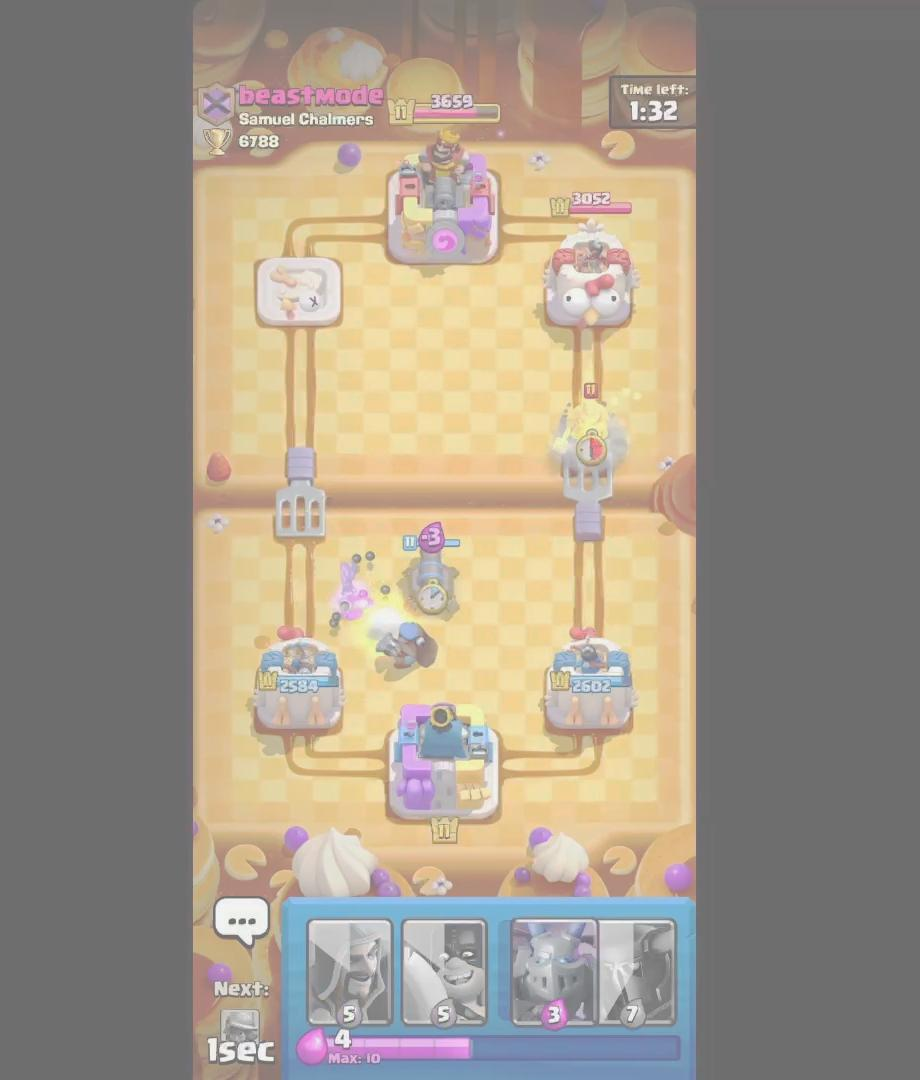Hog Rider: (555, 380, 617, 469)
